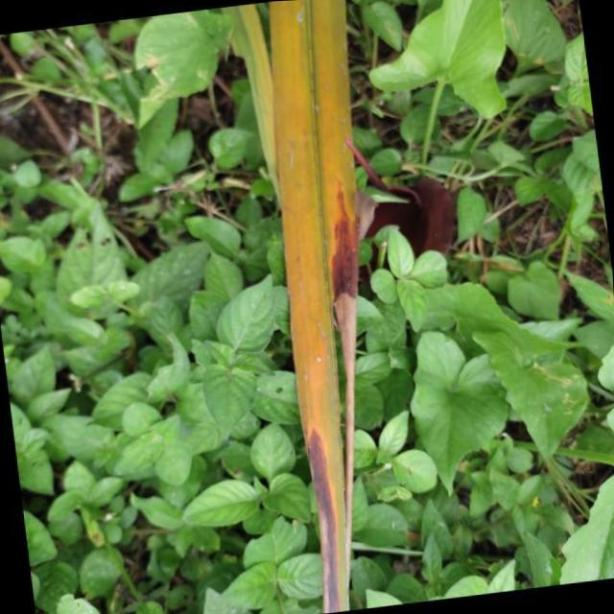Megnesium: (270, 0, 366, 614)
